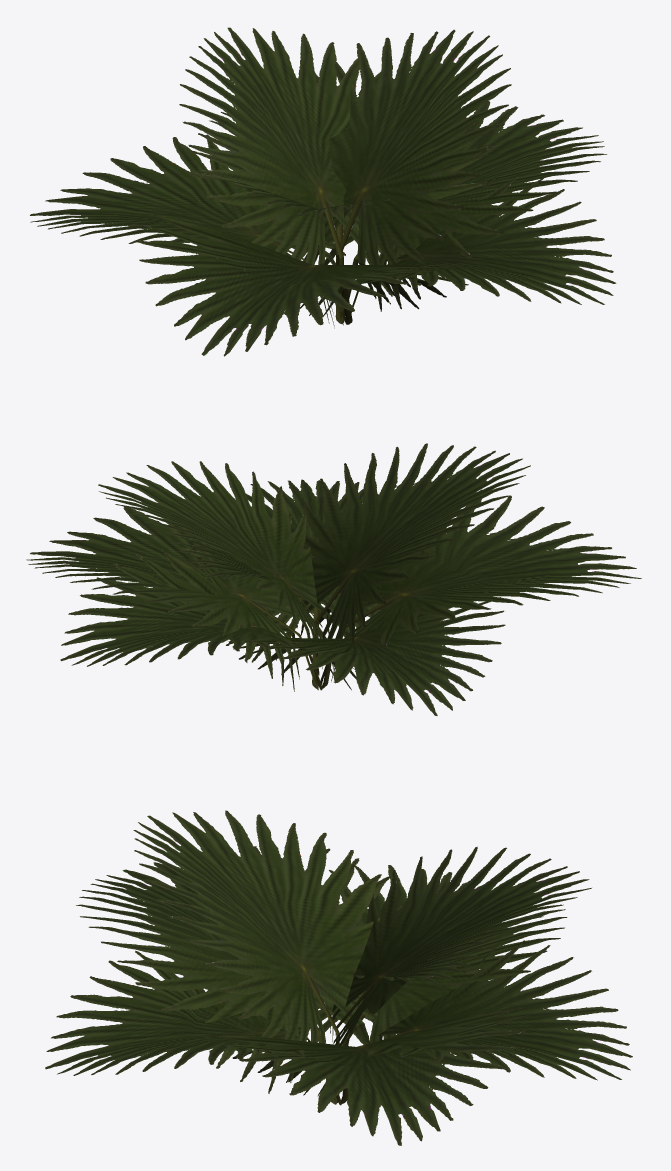
Rendered from SM_Plant_02.glb.
3 renders of one model, top to bottom at view 1: azimuth 30°, elevation 25°; view 2: azimuth 150°, elevation 25°; view 3: azimuth 270°, elevation 25°, orthographic. The views are drawn at different scales.
Visible parts, largest first — view 1: SM_Plant_02; view 2: SM_Plant_02; view 3: SM_Plant_02.
Part boxes in pixels (left/top/right/bottom): SM_Plant_02: left=30, top=27, right=616, bottom=356; SM_Plant_02: left=26, top=443, right=641, bottom=715; SM_Plant_02: left=45, top=810, right=632, bottom=1145.
Size of the model in its own units: 4.04 by 1.43 by 3.67.
Materials: 1 (1 with a texture image).
